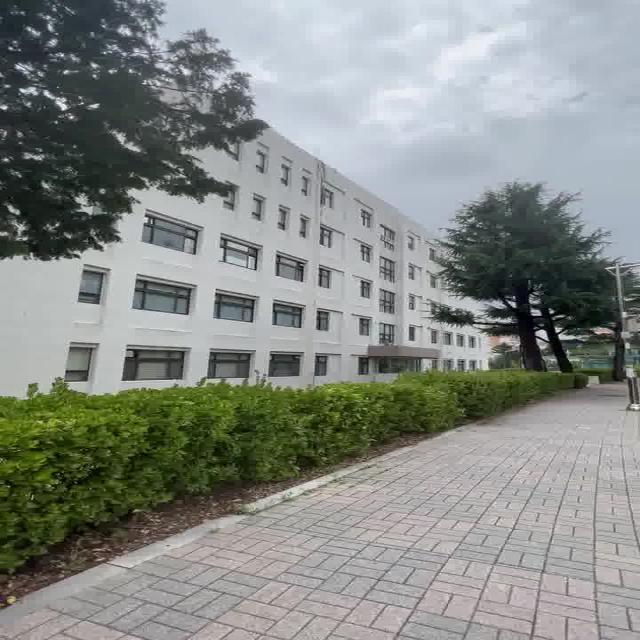building: (156, 128, 446, 375)
